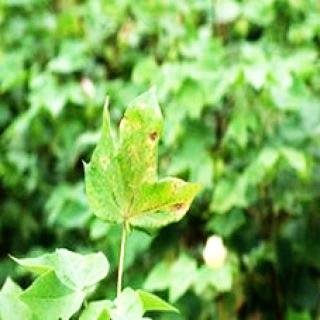grey mildew: (86, 98, 198, 230)
